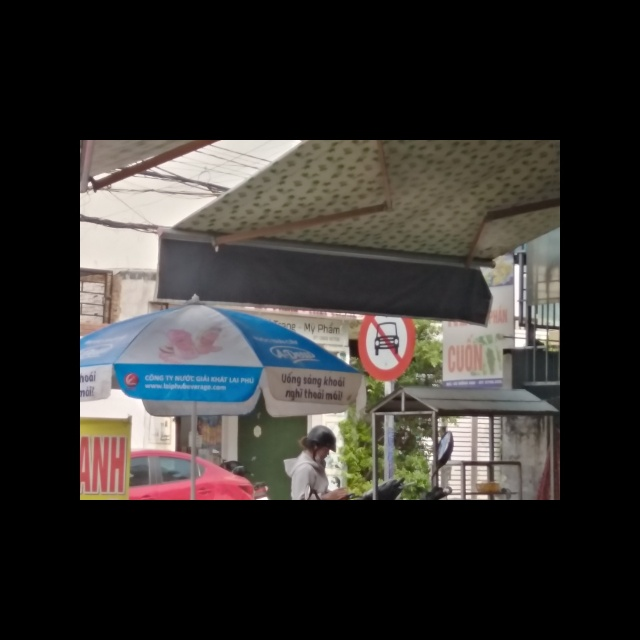Cấm xe ô tô: (356, 313, 419, 382)
